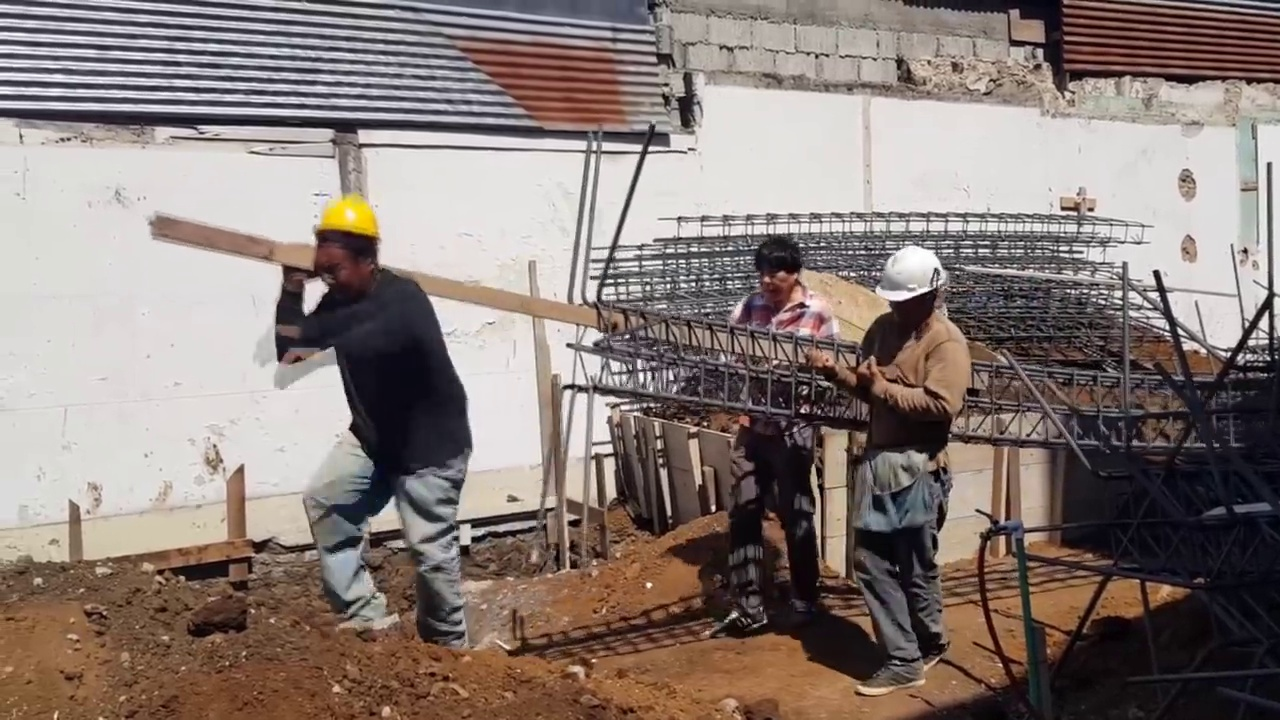helmet: (304, 189, 384, 245), (883, 241, 952, 305)
helmet-off: (754, 239, 807, 305)
helmet-on: (303, 199, 381, 302), (873, 240, 951, 342)
person: (263, 164, 474, 656), (833, 236, 966, 703), (724, 236, 830, 652)
